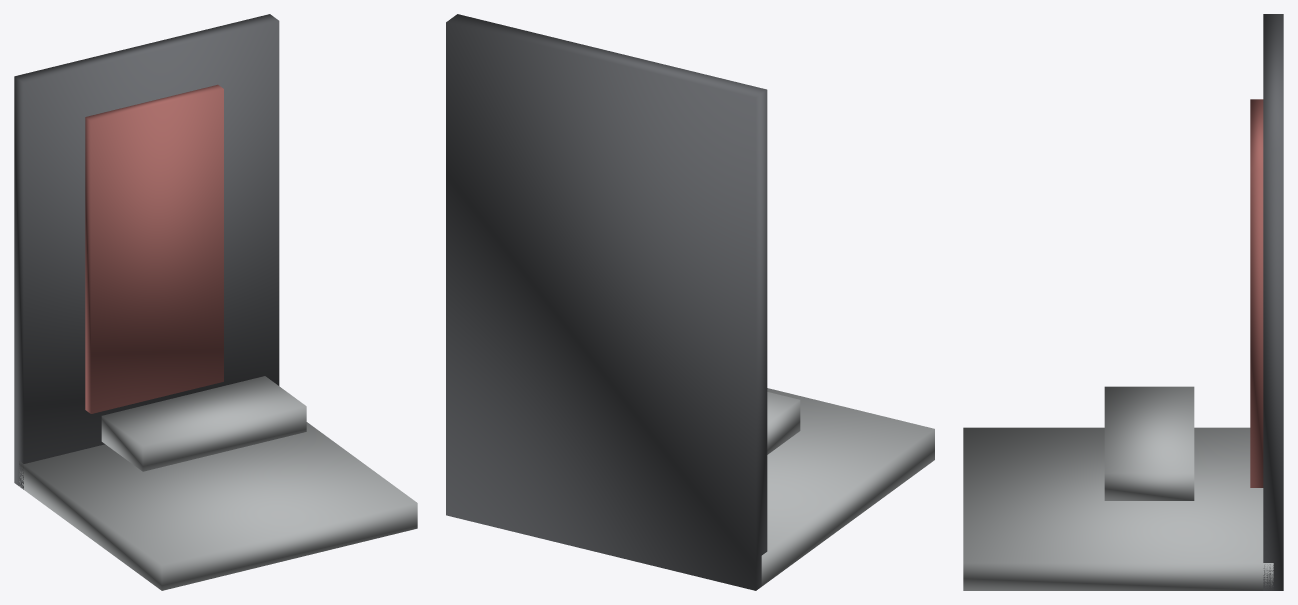
The model's file is roof_access_hatch_stair_06.glb.
3 renders of one model, left to right at view 1: azimuth 30°, elevation 25°; view 2: azimuth 150°, elevation 25°; view 3: azimuth 270°, elevation 25°, orthographic. The views are drawn at different scales.
Visible parts, largest first — view 1: world; view 2: world; view 3: world.
Part boxes in pixels (bbox=[...]): world: bbox=[14, 14, 417, 590]; world: bbox=[446, 14, 934, 590]; world: bbox=[963, 14, 1283, 590].
Bounding box in the file's own units: 1.25 × 1.9 × 1.25.
